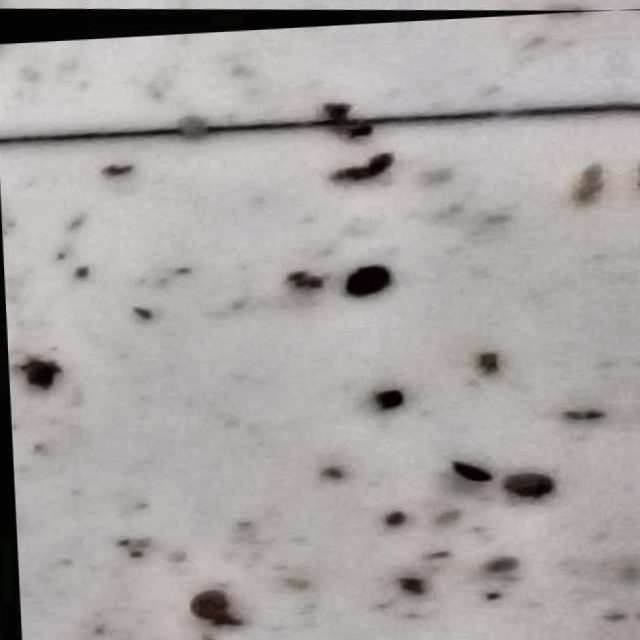varroa: (500, 469, 552, 500), (186, 583, 227, 622), (343, 262, 390, 296)
